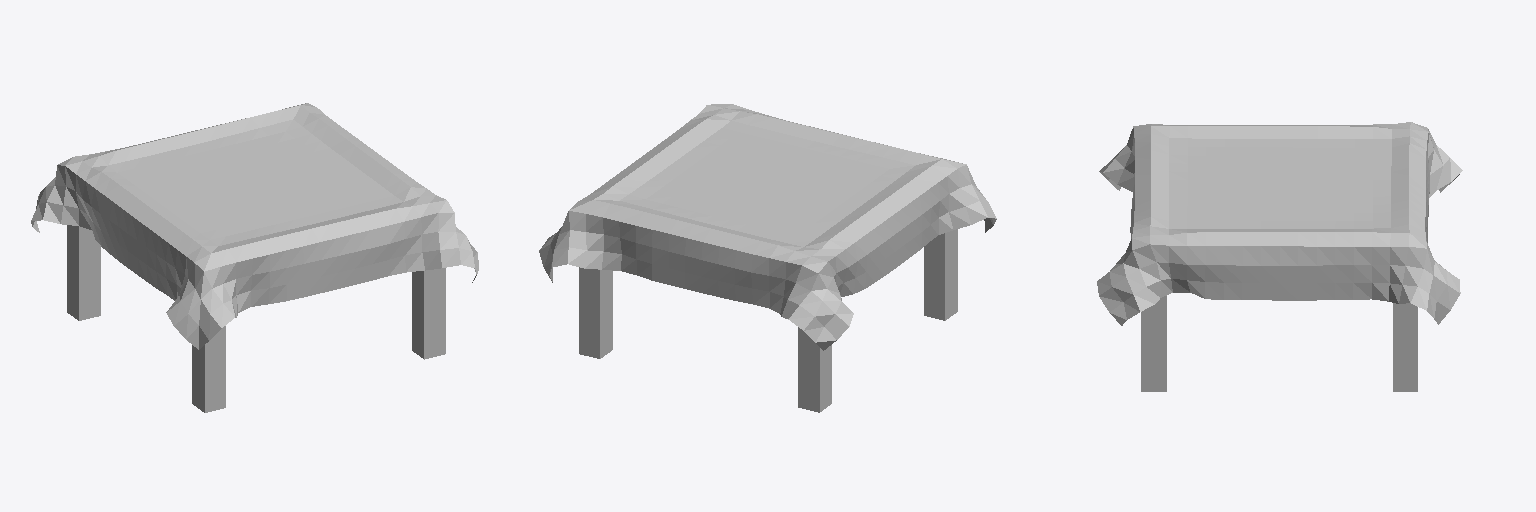
Rendered from uploads_files_2203964_Low+Poly+Table.obj.
The picture shows the model from 3 angles: view 1: azimuth 30°, elevation 25°; view 2: azimuth 150°, elevation 25°; view 3: azimuth 270°, elevation 25°; orthographic projection.
Visible parts, largest first — view 1: Plane.005, Plane.004, Plane.002, Plane.003; view 2: Plane.005, Plane.001, Plane.003, Plane.004; view 3: Plane.005, Plane.002, Plane.001.
Boxes of the visible parts, <box> form: Plane.005: <box>31,103,478,349</box>; Plane.004: <box>67,225,100,320</box>; Plane.002: <box>412,268,445,359</box>; Plane.003: <box>192,326,225,412</box>; Plane.005: <box>539,104,996,350</box>; Plane.001: <box>579,267,612,358</box>; Plane.003: <box>924,229,957,320</box>; Plane.004: <box>798,327,831,412</box>; Plane.005: <box>1097,122,1462,325</box>; Plane.002: <box>1141,296,1166,391</box>; Plane.001: <box>1393,303,1417,391</box>.
Size of the model in its own units: 5.16 by 2.44 by 5.26.